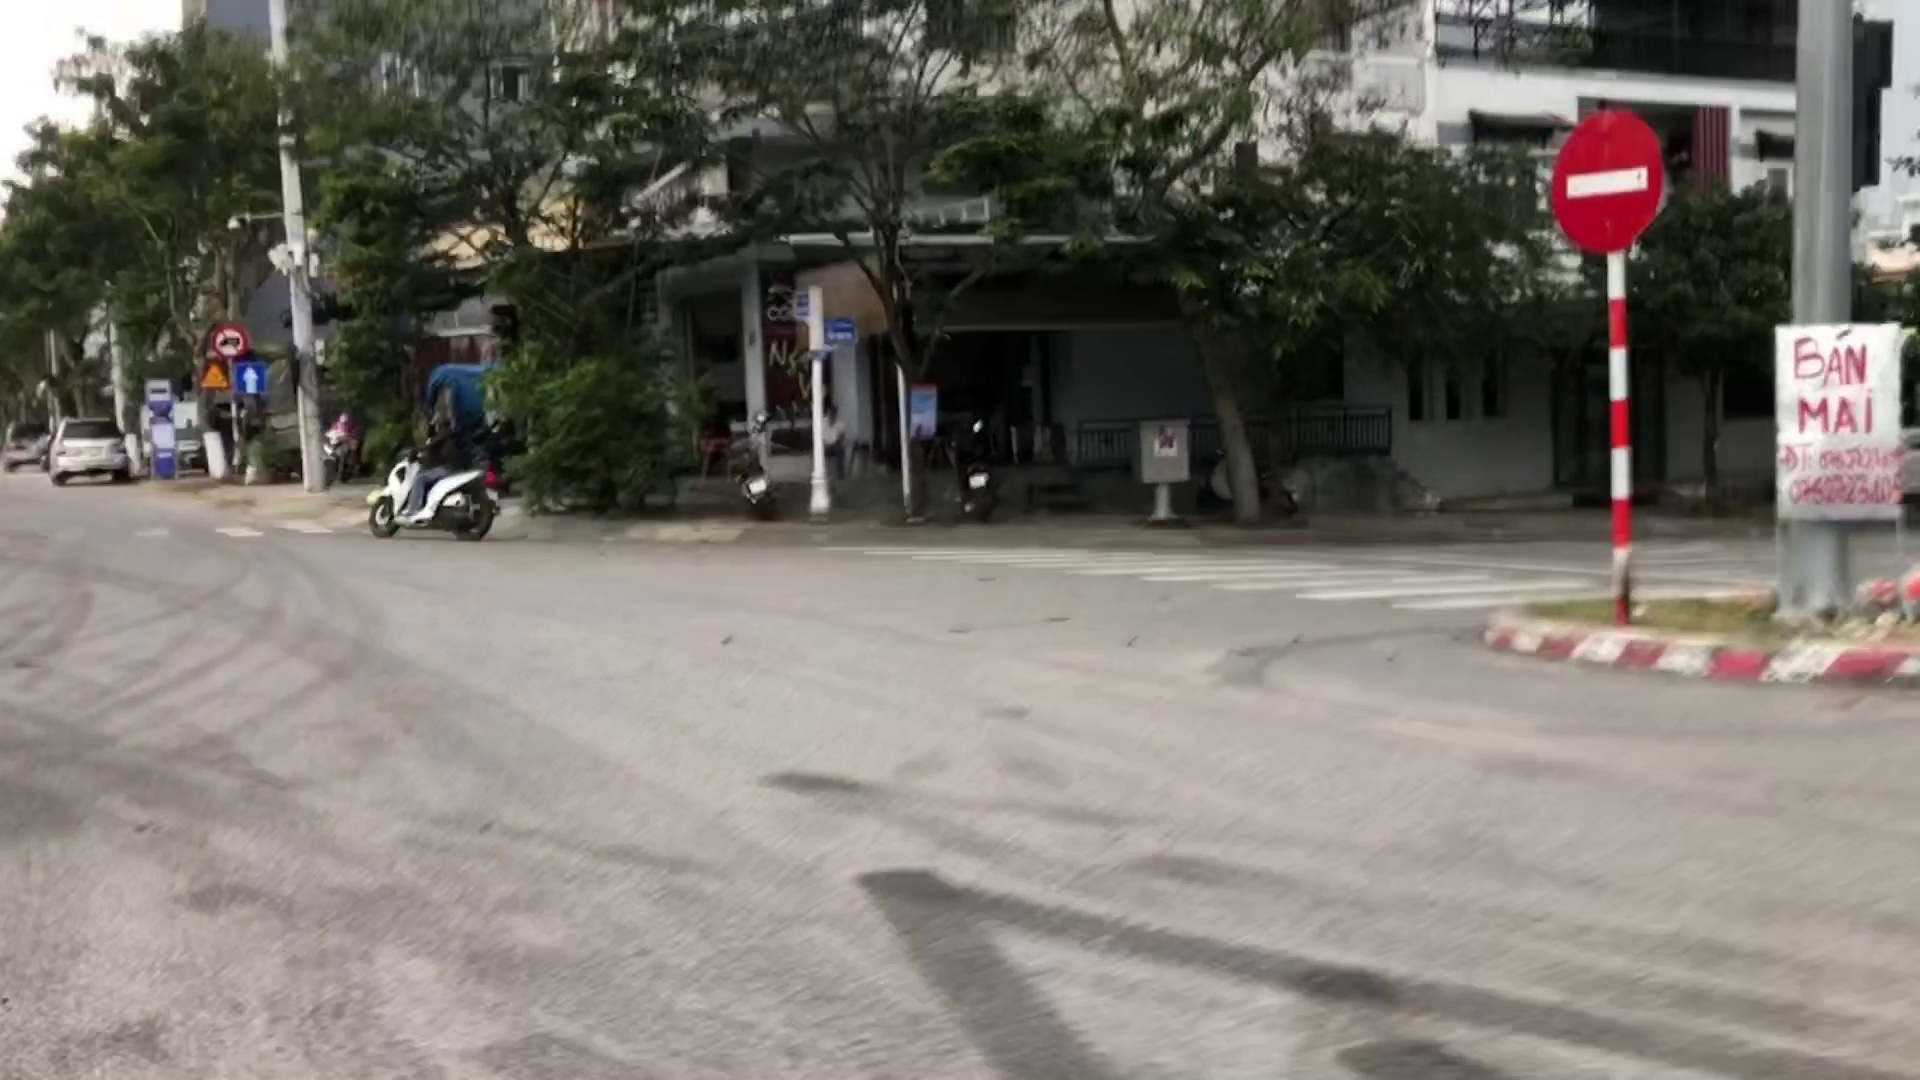Cam di nguoc chieu: (1551, 105, 1664, 253)
